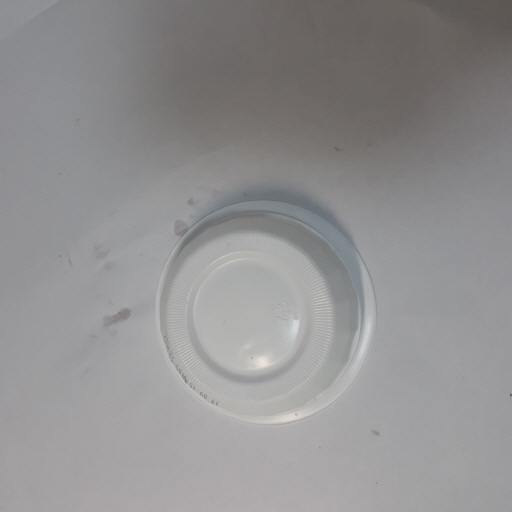Plastic_5: (156, 196, 379, 429)
